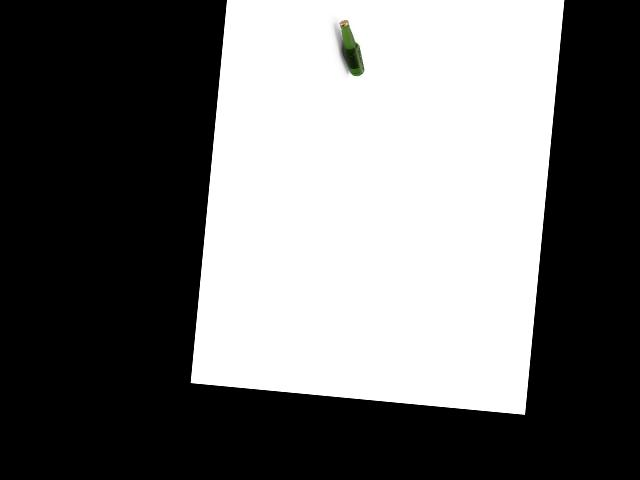beer: (334, 19, 368, 77)
